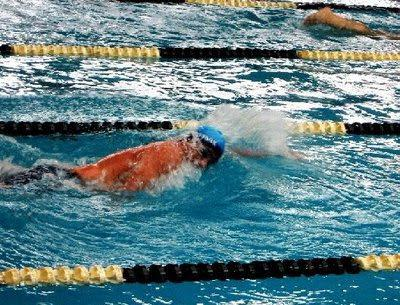swimmer: (66, 125, 226, 198)
